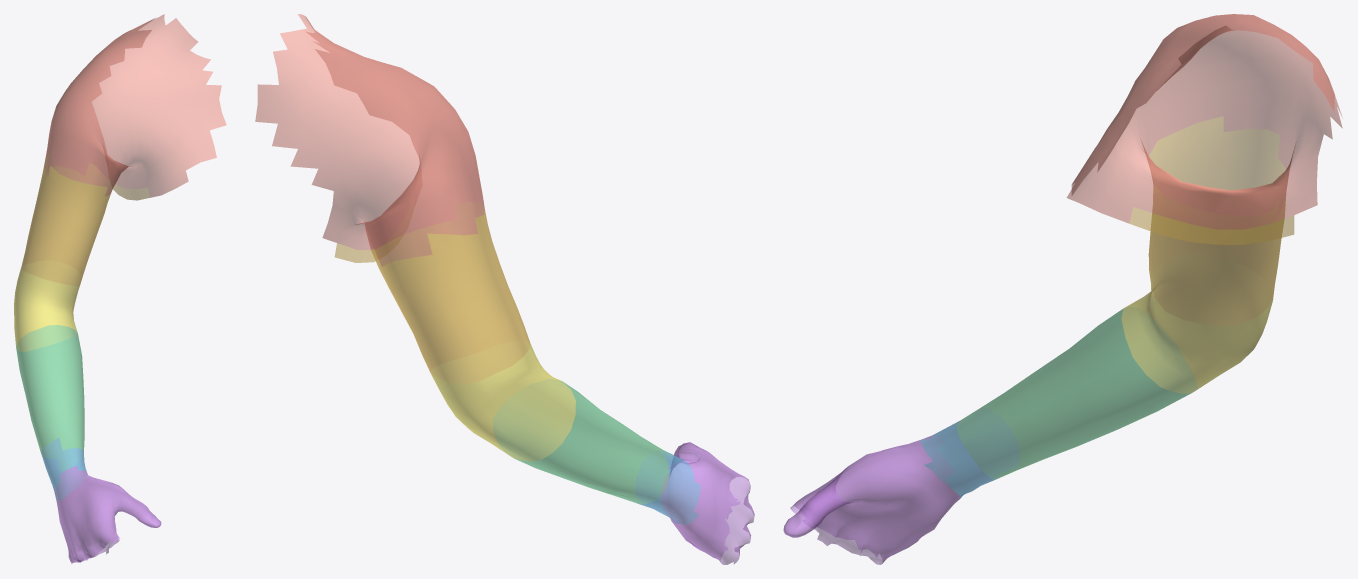
Rendered from neutro_body_v1_right_arm_interaction.glb.
3 views of the same model, side by side, from view 1: azimuth 30°, elevation 25°; view 2: azimuth 150°, elevation 25°; view 3: azimuth 270°, elevation 25° (orthographic). The views are drawn at different scales.
Visible parts, largest first — view 1: zone_right_shoulder, zone_right_upper_arm, zone_right_forearm, zone_right_hand, zone_right_elbow, zone_right_wrist; view 2: zone_right_shoulder, zone_right_upper_arm, zone_right_forearm, zone_right_elbow, zone_right_hand, zone_right_wrist; view 3: zone_right_shoulder, zone_right_upper_arm, zone_right_forearm, zone_right_elbow, zone_right_hand, zone_right_wrist.
Part boxes in pixels (x1,y1,x2,y2): zone_right_shoulder: [44, 14, 226, 197]; zone_right_upper_arm: [21, 152, 149, 285]; zone_right_forearm: [16, 325, 84, 470]; zone_right_hand: [54, 466, 161, 563]; zone_right_elbow: [14, 260, 80, 351]; zone_right_wrist: [41, 438, 88, 501]; zone_right_shoulder: [255, 14, 484, 266]; zone_right_upper_arm: [334, 202, 530, 384]; zone_right_forearm: [493, 379, 673, 504]; zone_right_elbow: [431, 340, 575, 461]; zone_right_hand: [661, 442, 754, 564]; zone_right_wrist: [635, 450, 700, 525]; zone_right_shoulder: [1067, 14, 1342, 229]; zone_right_upper_arm: [1129, 116, 1294, 326]; zone_right_forearm: [957, 307, 1196, 479]; zone_right_elbow: [1121, 253, 1272, 393]; zone_right_hand: [783, 435, 960, 564]; zone_right_wrist: [920, 408, 1019, 497].
Bounding box in the file's own units: 0.3255 × 0.5711 × 0.412.
